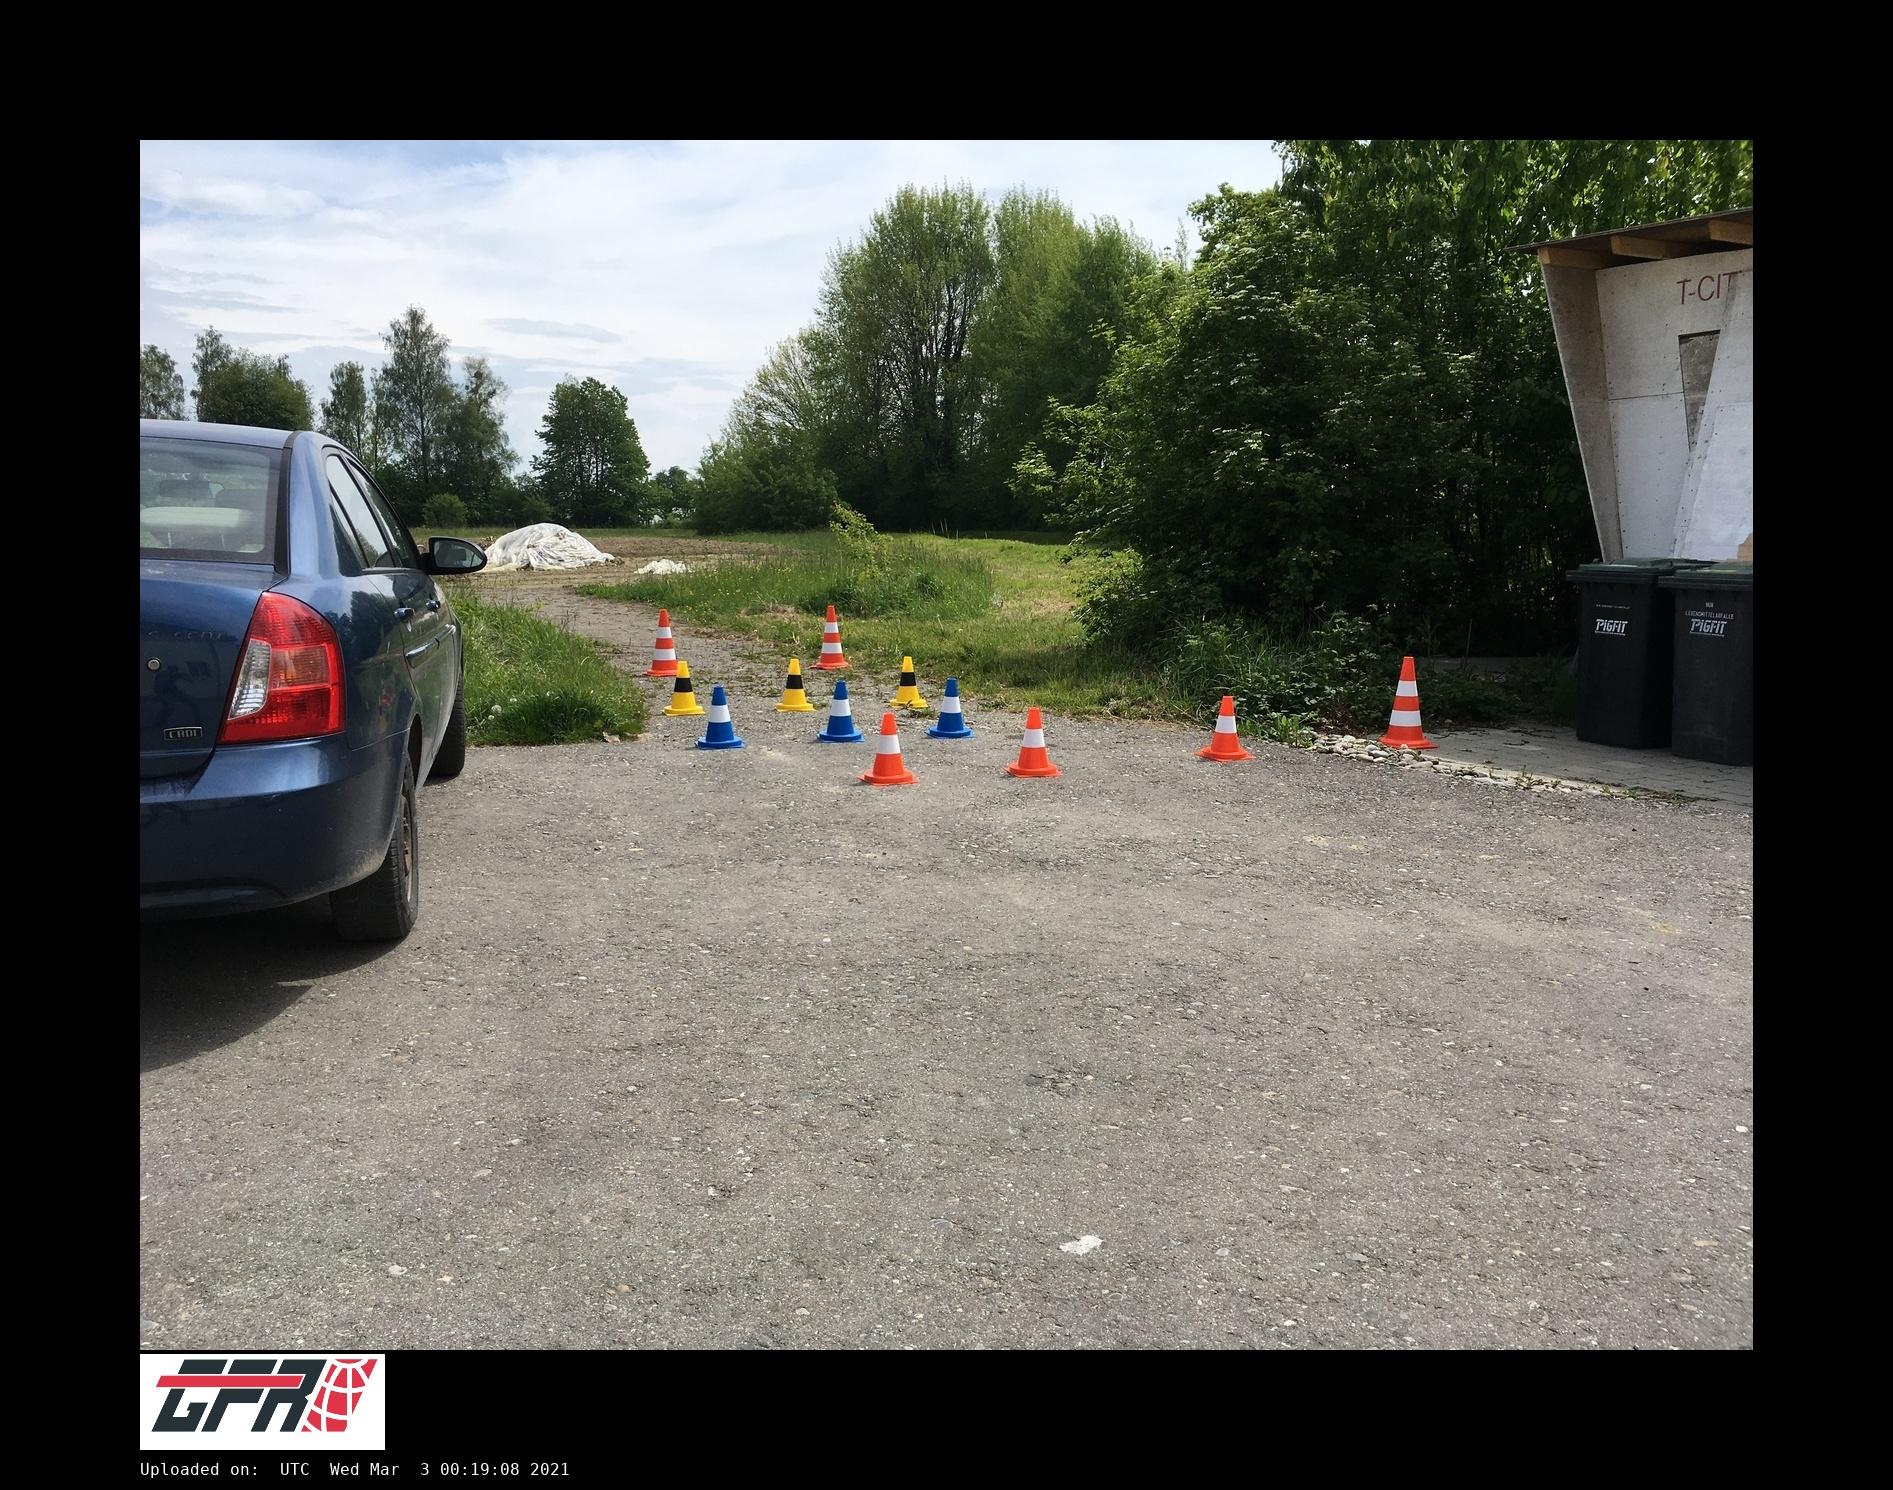blue_cone: (698, 687, 745, 750), (817, 682, 865, 742), (930, 677, 976, 737)
large_orange_cone: (1381, 657, 1440, 748), (814, 605, 851, 670), (645, 610, 676, 673)
orange_cone: (857, 713, 919, 786), (1003, 708, 1062, 777), (1200, 693, 1248, 753)
yellow_cone: (665, 661, 702, 716), (776, 659, 814, 711), (890, 657, 928, 708)
